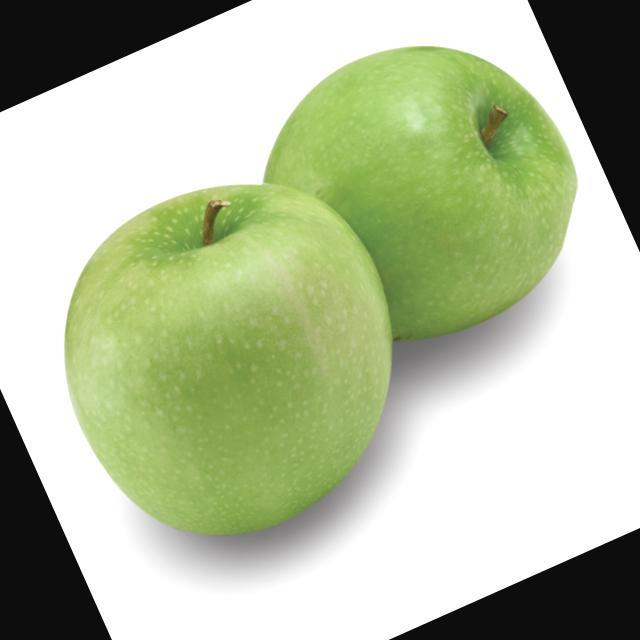Green Apple: (63, 43, 579, 536)
Red Apple: (64, 182, 394, 537), (263, 45, 578, 342)
